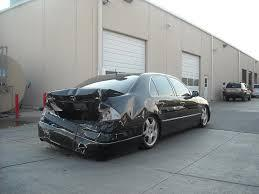quaterpanel-dent: (117, 94, 156, 124)
rear-bumper-dent: (39, 122, 105, 147)
